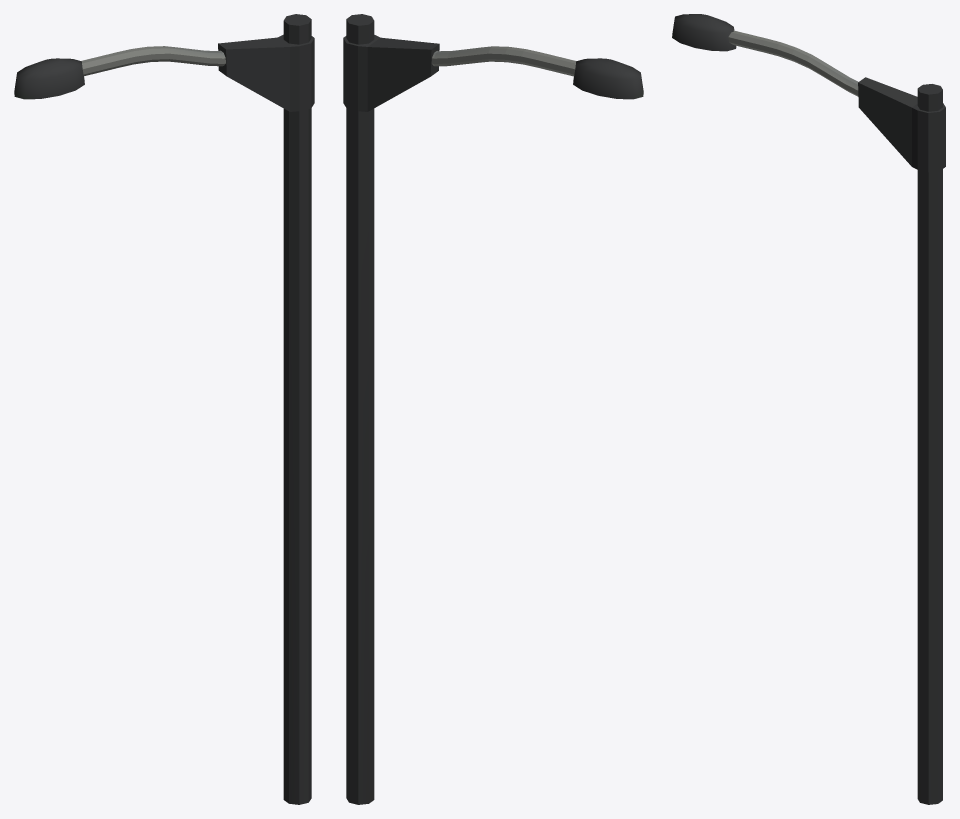
The model's file is LampPost.fbx.
3 views of the same model, side by side, from view 1: azimuth 30°, elevation 25°; view 2: azimuth 150°, elevation 25°; view 3: azimuth 330°, elevation 25° (orthographic). The views are drawn at different scales.
Visible parts, largest first — view 1: LampPost; view 2: LampPost; view 3: LampPost.
Boxes of the visible parts, left/top/right/bottom form: LampPost: left=14, top=14, right=314, bottom=804; LampPost: left=343, top=14, right=643, bottom=804; LampPost: left=672, top=14, right=945, bottom=804.
Bounding box in the file's own units: 194 × 498 × 23.08.
